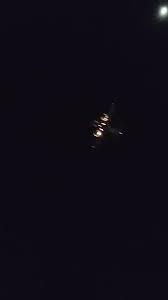Plane: (80, 103, 128, 152)
